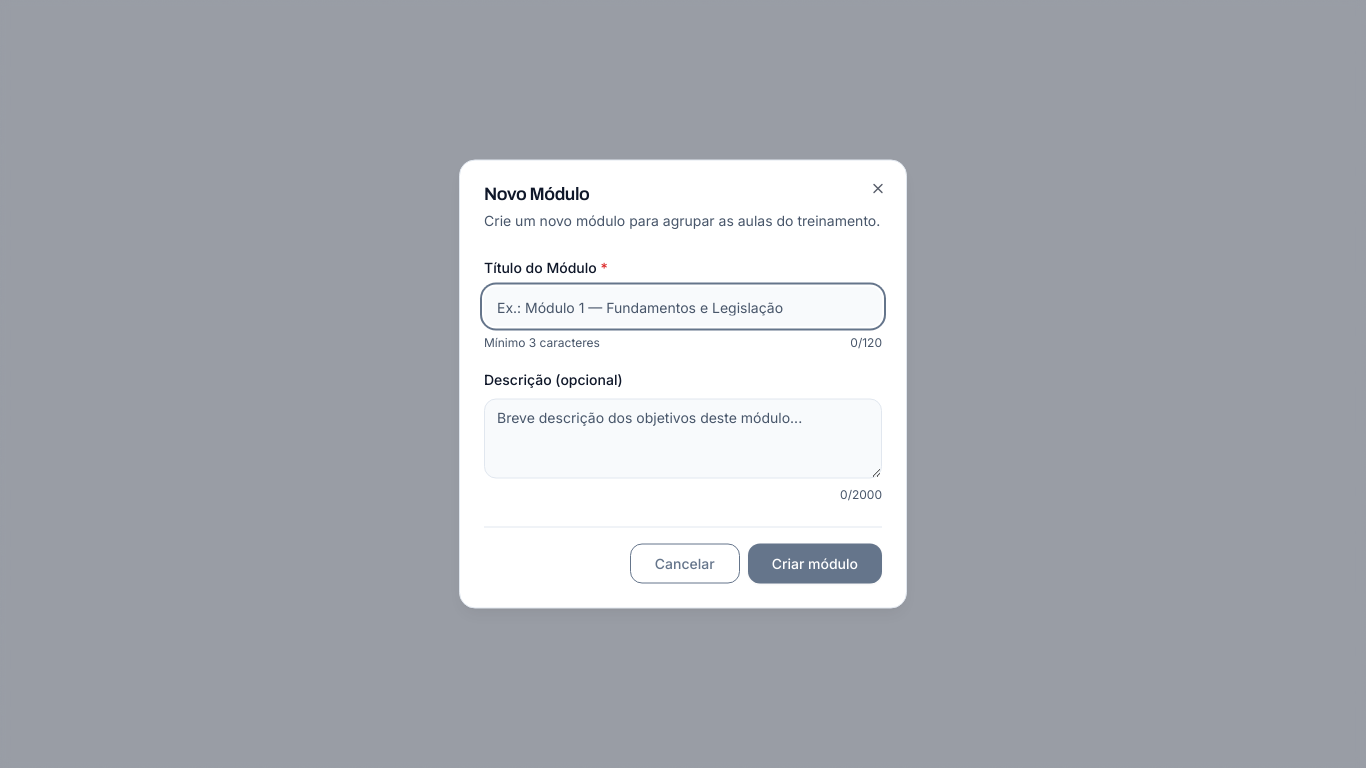
Test case: ETAPA 9.6 — CRUD de Módulos, Aulas e Quiz (Passo 8.1 Validações) › a) valida título de módulo (< 3 caracteres recusa)
Note: Digita apenas 2 caracteres
In the field labelled "Título do Módulo *": (683,306) x1=484 y1=286 x2=882 y2=326, type "AB"
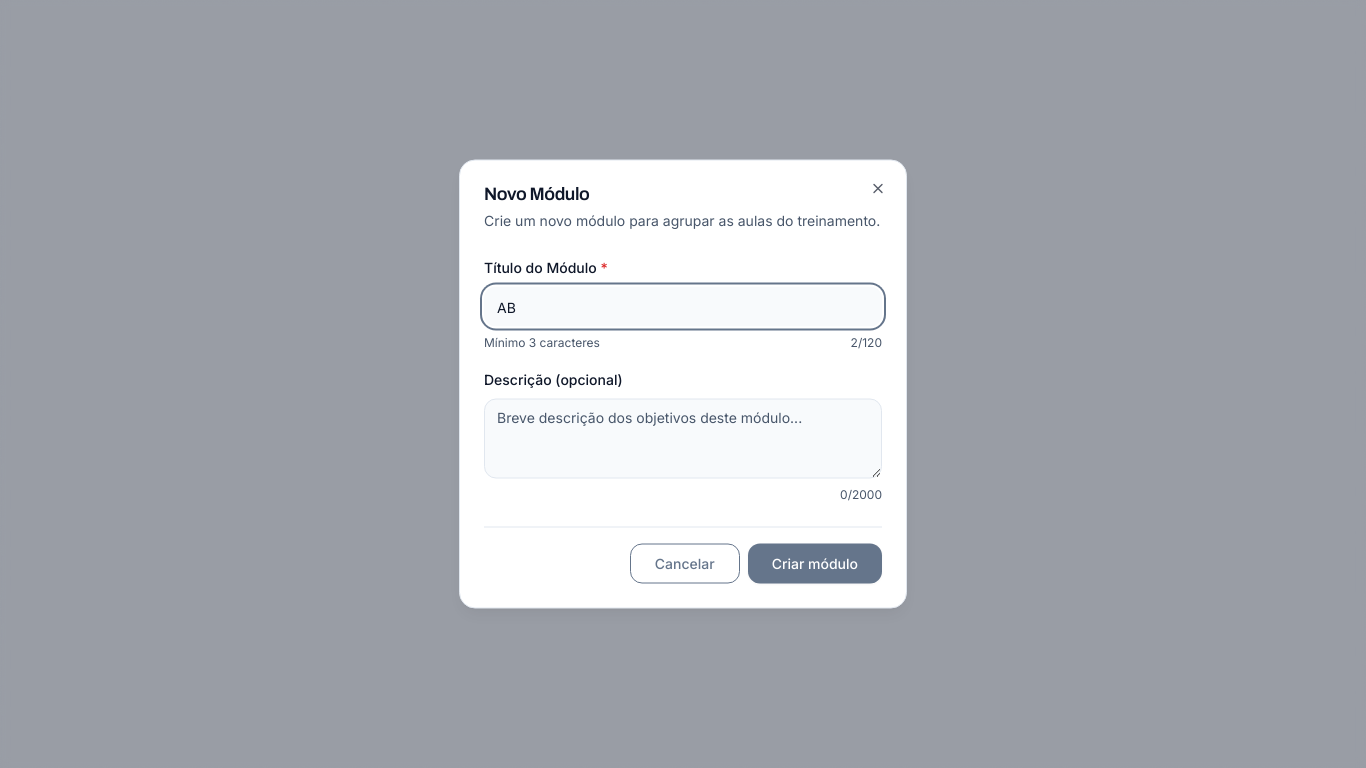
Click the button "Criar módulo": (815,564) x1=748 y1=544 x2=882 y2=584
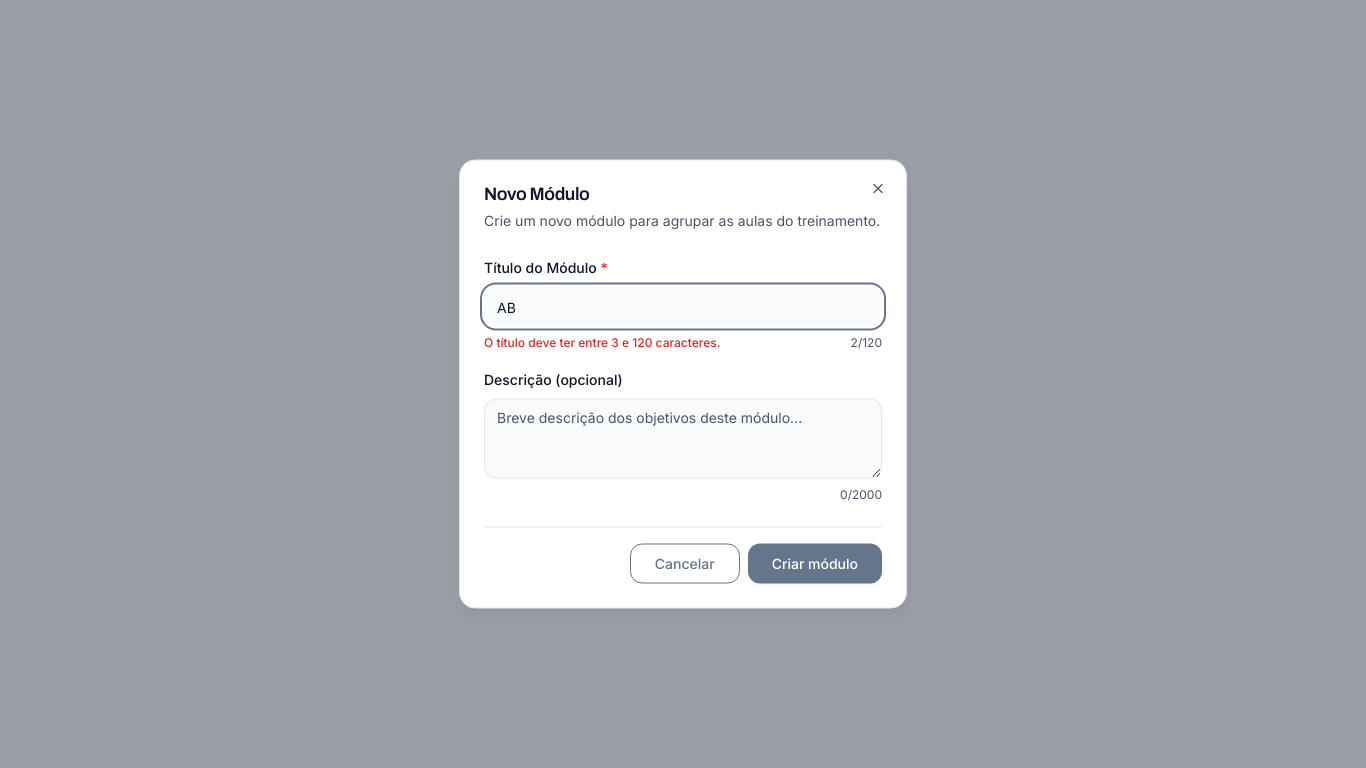
Now the text "O título deve ter entre 3 e 120 caracteres." is shown, box x1=484 y1=334 x2=720 y2=350
